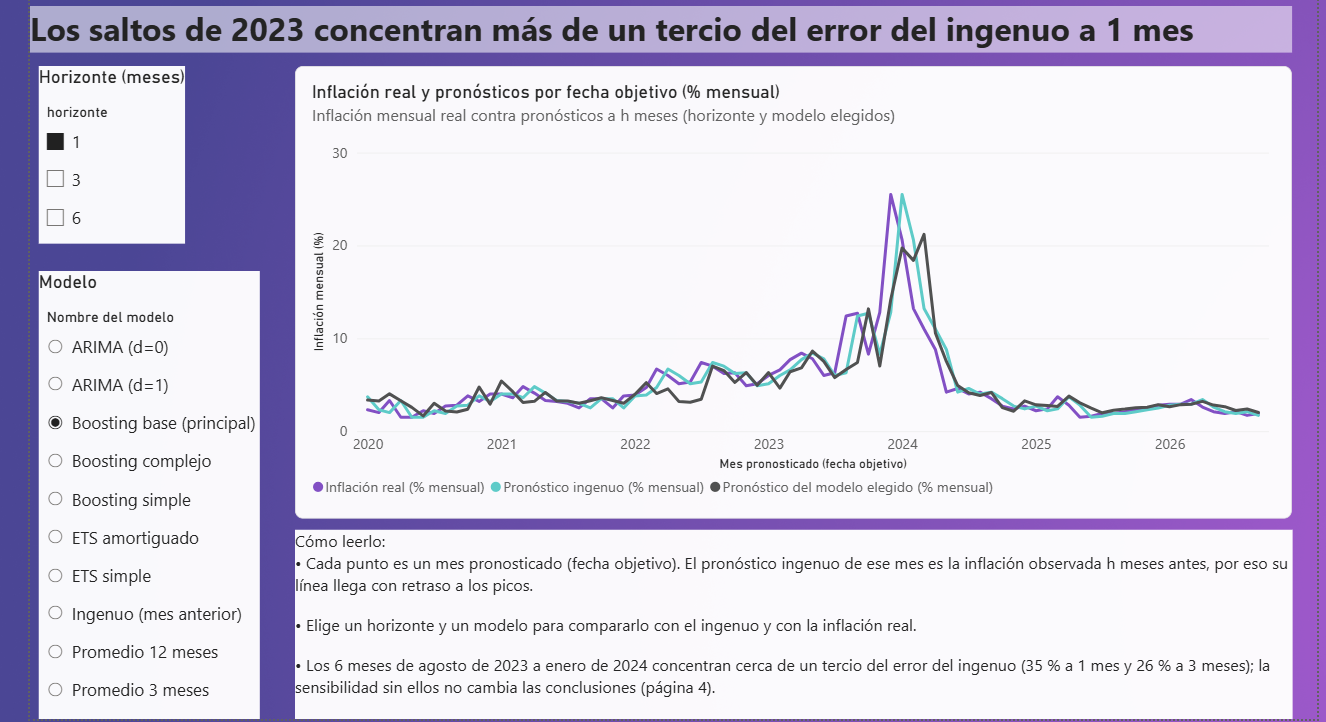

The page's visual inventory and layout, read from the dashboard file:
{"tool":"powerbi","page":{"name":"Real vs pronóstico","canvas":[1280,720],"ordinal":2},"visuals":[{"type":"textbox","box":[0,10,1256.4,46],"z":0},{"type":"slicer","title":"Horizonte (meses)","fields":{"Values":["dim_horizonte.horizonte"]},"box":[8.7,69.7,145.5,176.6],"z":1000},{"type":"slicer","title":"Modelo","fields":{"Values":["inflacion modelos.Nombre del modelo"]},"box":[8.7,273.7,219.6,446.6],"z":2000},{"type":"lineChart","title":"Inflación real y pronósticos por fecha objetivo (% mensual)","fields":{"Category":["inflacion vw_pronosticos.fecha_objetivo"],"Y":["Medidas.Inflación real (% mensual)","Medidas.Pronóstico ingenuo (% mensual)","Medidas.Pronóstico del modelo elegido (% mensual)"]},"box":[264,70,992,450],"z":3000},{"type":"textbox","box":[263.7,531.2,992.7,189.1],"z":4000}]}

Visuals, with their boxes on the page's 1280x720 design canvas (x1, y1, x2, y2). These are canvas units, not pixel positions in the 1326x722 screenshot, which may show the page scaled, cropped or inside an application window:
textbox: {"left": 0, "top": 10, "right": 1256, "bottom": 56}
"Horizonte (meses)" slicer: {"left": 9, "top": 70, "right": 154, "bottom": 246}
"Modelo" slicer: {"left": 9, "top": 274, "right": 228, "bottom": 720}
"Inflación real y pronósticos por fecha objetivo (% mensual)" lineChart: {"left": 264, "top": 70, "right": 1256, "bottom": 520}
textbox: {"left": 264, "top": 531, "right": 1256, "bottom": 720}
